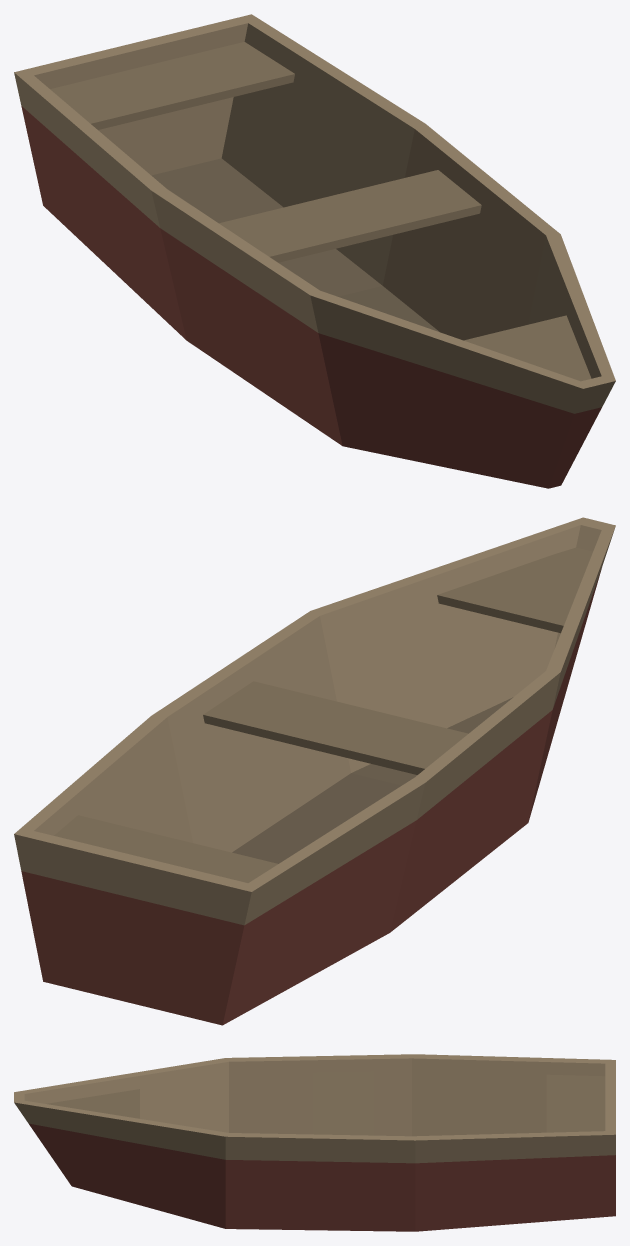
The model's file is Boat.fbx.
3 renders of one model, top to bottom at view 1: azimuth 30°, elevation 25°; view 2: azimuth 150°, elevation 25°; view 3: azimuth 270°, elevation 25°, orthographic. The views are drawn at different scales.
Visible parts, largest first — view 1: Boat; view 2: Boat; view 3: Boat.
Part boxes in pixels (left/top/right/bottom): Boat: left=14, top=14, right=615, bottom=488; Boat: left=14, top=517, right=615, bottom=1025; Boat: left=14, top=1054, right=615, bottom=1231.
Size of the model in its own units: 109 by 60.09 by 320.
